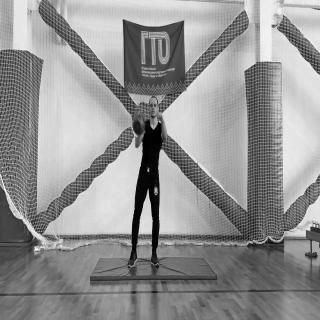kettlebell: (133, 111, 147, 138)
